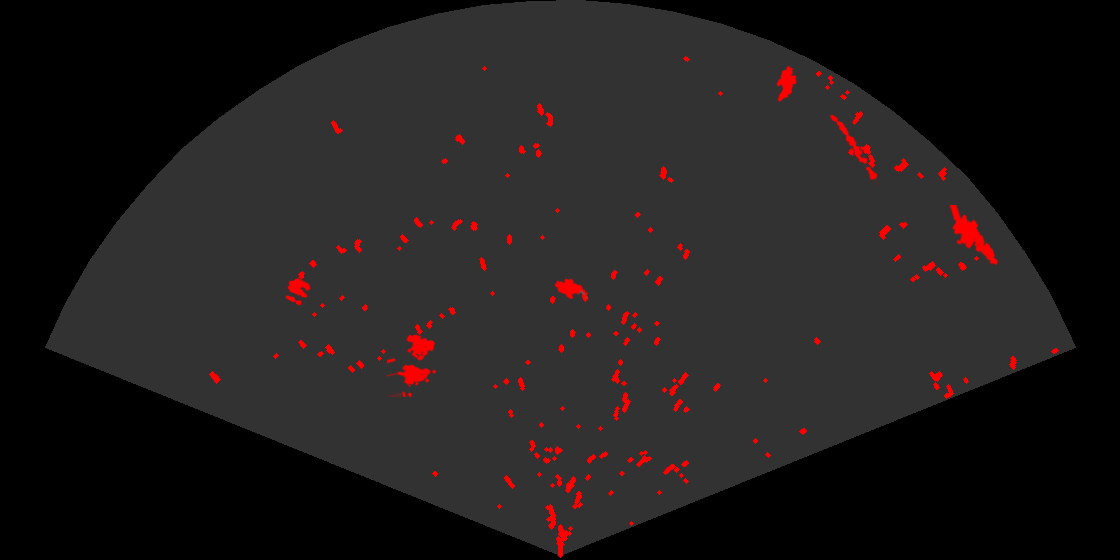AUV: (775, 64, 799, 104), (553, 277, 590, 302)
ball: (284, 276, 313, 307)
cage: (387, 333, 438, 397)
chain: (828, 113, 882, 185)
frogman: (948, 205, 1000, 267)
